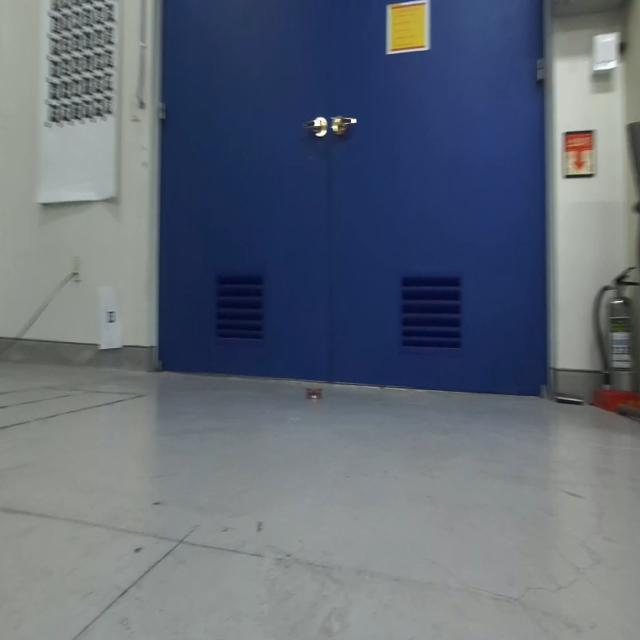crazyflie: (304, 382, 325, 405)
